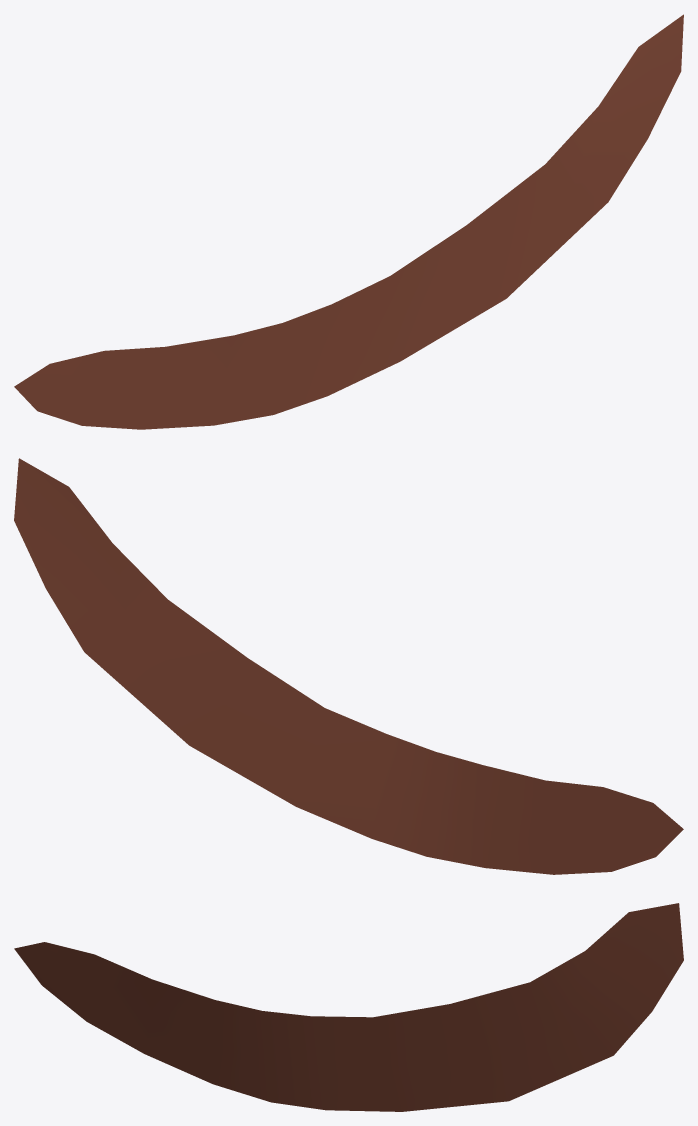
The model's file is Mouth_Brown_3.fbx.
3 views of the same model, one above another, from view 1: azimuth 30°, elevation 25°; view 2: azimuth 150°, elevation 25°; view 3: azimuth 330°, elevation 25° (orthographic).
Visible parts, largest first — view 1: Mouth_Brown_3; view 2: Mouth_Brown_3; view 3: Mouth_Brown_3.
Part boxes in pixels (box(x1,y1,x2,y2)): Mouth_Brown_3: box(14, 14, 683, 429); Mouth_Brown_3: box(14, 458, 683, 874); Mouth_Brown_3: box(14, 903, 683, 1111).
Bounding box in the file's own units: 7.03 × 3.01 × 0.2537.
